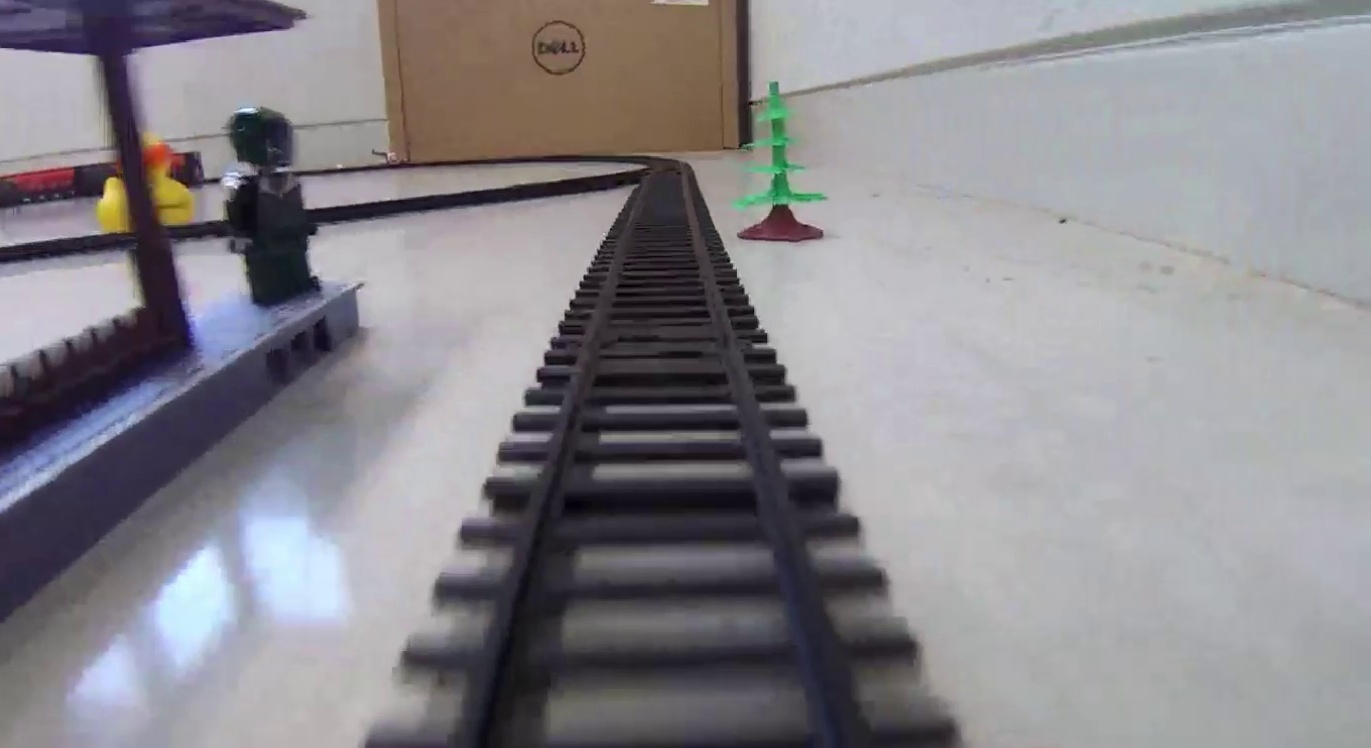people: (222, 107, 322, 299)
tree: (733, 80, 825, 242)
